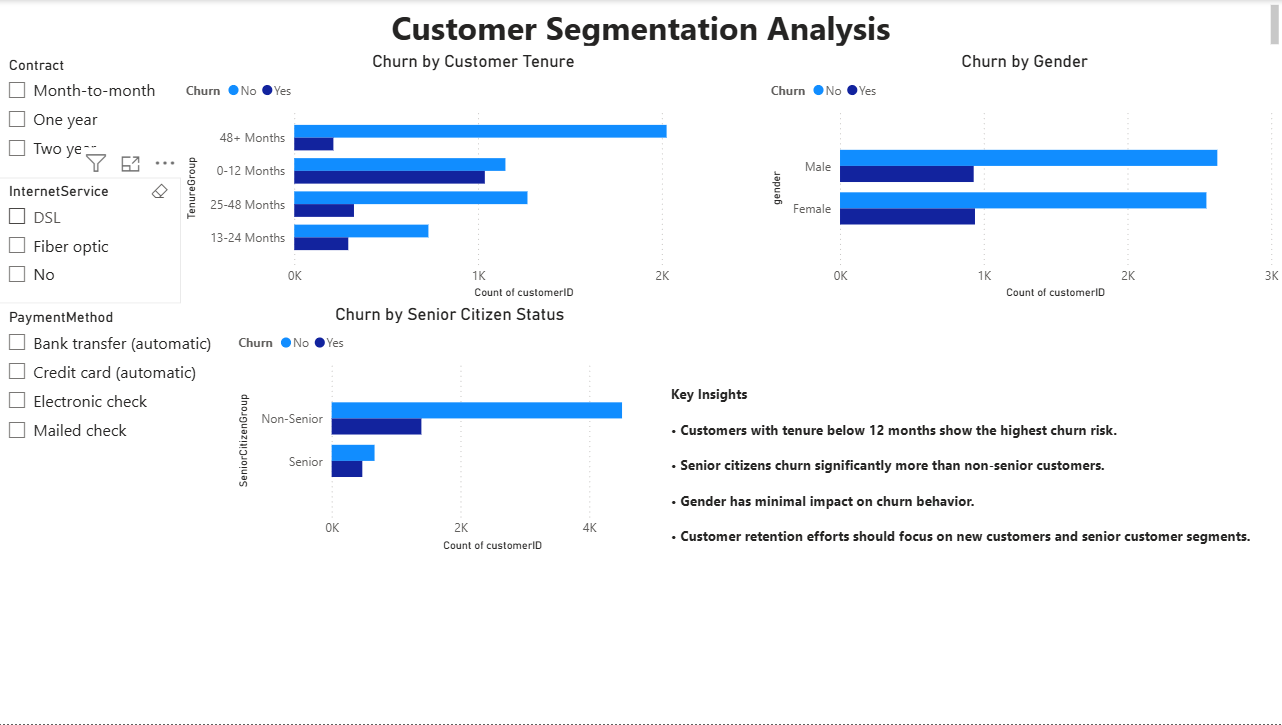

The page's visual inventory and layout, read from the dashboard file:
{"tool":"powerbi","page":{"name":"Customer Segmentation","canvas":[1280,720],"ordinal":1},"visuals":[{"type":"textbox","box":[9.9,0,1270.3,51],"z":0},{"type":"clusteredBarChart","title":"Churn by Customer Tenure","fields":{"Y":["CountNonNull(WA_Fn-UseC_-Telco-Customer-Churn.customerID)"],"Category":["WA_Fn-UseC_-Telco-Customer-Churn.TenureGroup"],"Series":["WA_Fn-UseC_-Telco-Customer-Churn.Churn"]},"box":[184,51,581.7,251.1],"z":1},{"type":"clusteredBarChart","title":"Churn by Senior Citizen Status","fields":{"Category":["WA_Fn-UseC_-Telco-Customer-Churn.SeniorCitizenGroup"],"Y":["CountNonNull(WA_Fn-UseC_-Telco-Customer-Churn.customerID)"],"Series":["WA_Fn-UseC_-Telco-Customer-Churn.Churn"]},"box":[236.2,302,430.1,251.1],"z":2},{"type":"clusteredBarChart","title":"Churn by Gender","fields":{"Category":["WA_Fn-UseC_-Telco-Customer-Churn.gender"],"Y":["CountNonNull(WA_Fn-UseC_-Telco-Customer-Churn.customerID)"],"Series":["WA_Fn-UseC_-Telco-Customer-Churn.Churn"]},"box":[765.7,51,514.6,251.1],"z":3},{"type":"slicer","title":"Contract InternetService PaymentMethod","fields":{"Values":["WA_Fn-UseC_-Telco-Customer-Churn.Contract"]},"box":[0,51,184,125.5],"z":4},{"type":"slicer","fields":{"Values":["WA_Fn-UseC_-Telco-Customer-Churn.InternetService"]},"box":[0,176.5,184,125.5],"z":5},{"type":"slicer","fields":{"Values":["WA_Fn-UseC_-Telco-Customer-Churn.PaymentMethod"]},"box":[0,302,236.2,150.4],"z":6},{"type":"textbox","box":[666.2,377.9,614,190.2],"z":7}]}

Visuals, with their boxes on the page's 1280x720 design canvas (x1, y1, x2, y2). These are canvas units, not pixel positions in the 1282x725 screenshot, which may show the page scaled, cropped or inside an application window:
textbox: x1=10, y1=0, x2=1280, y2=51
"Churn by Customer Tenure" clusteredBarChart: x1=184, y1=51, x2=766, y2=302
"Churn by Senior Citizen Status" clusteredBarChart: x1=236, y1=302, x2=666, y2=553
"Churn by Gender" clusteredBarChart: x1=766, y1=51, x2=1280, y2=302
"Contract InternetService PaymentMethod" slicer: x1=0, y1=51, x2=184, y2=176
slicer - WA_Fn-UseC_-Telco-Customer-Churn.InternetService: x1=0, y1=176, x2=184, y2=302
slicer - WA_Fn-UseC_-Telco-Customer-Churn.PaymentMethod: x1=0, y1=302, x2=236, y2=452
textbox: x1=666, y1=378, x2=1280, y2=568
